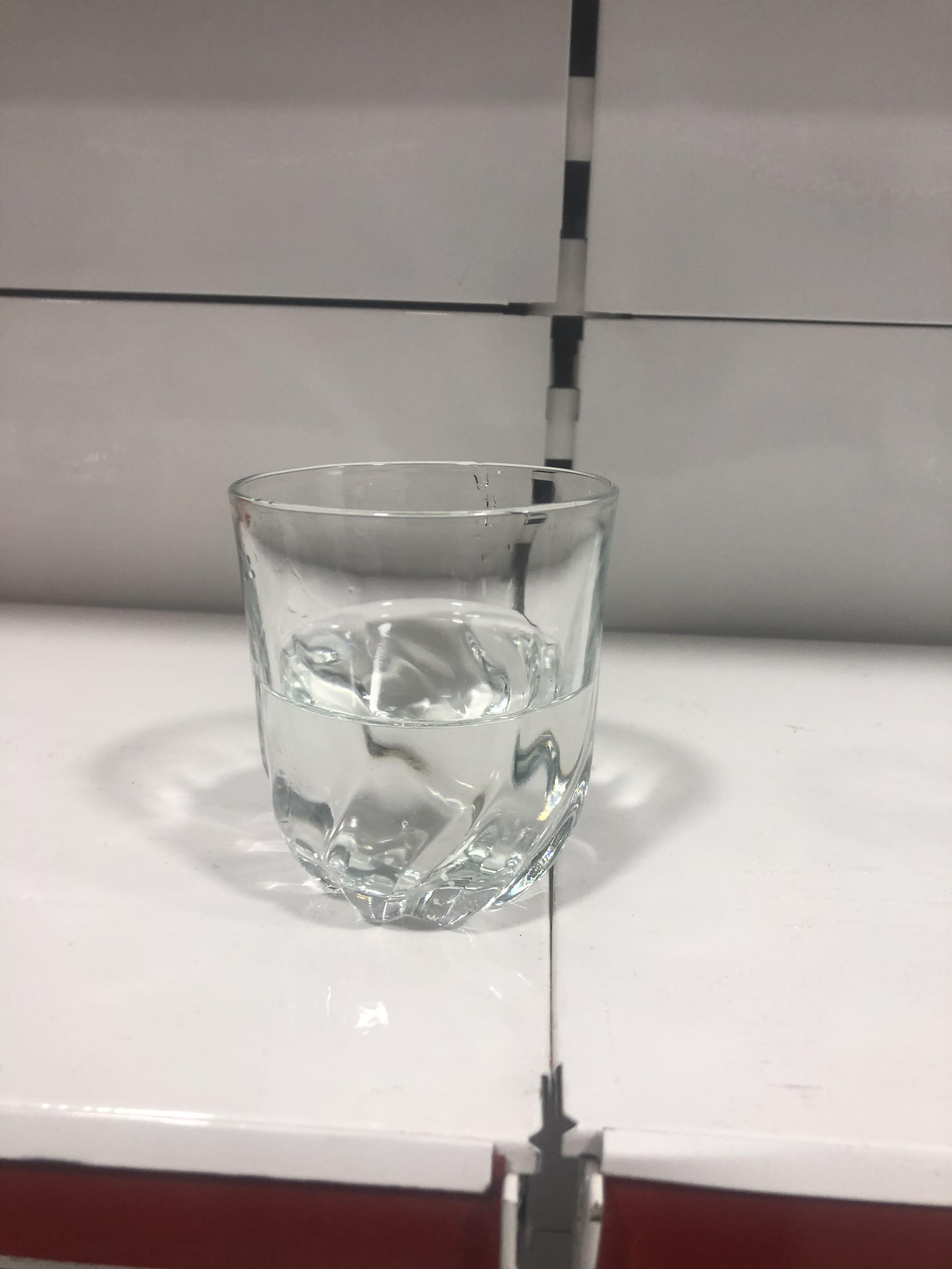glass-normal: (209, 448, 618, 927)
